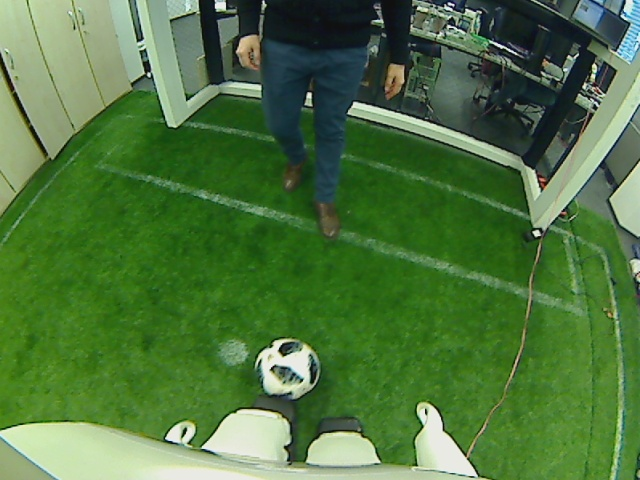ball: (253, 335, 322, 398)
